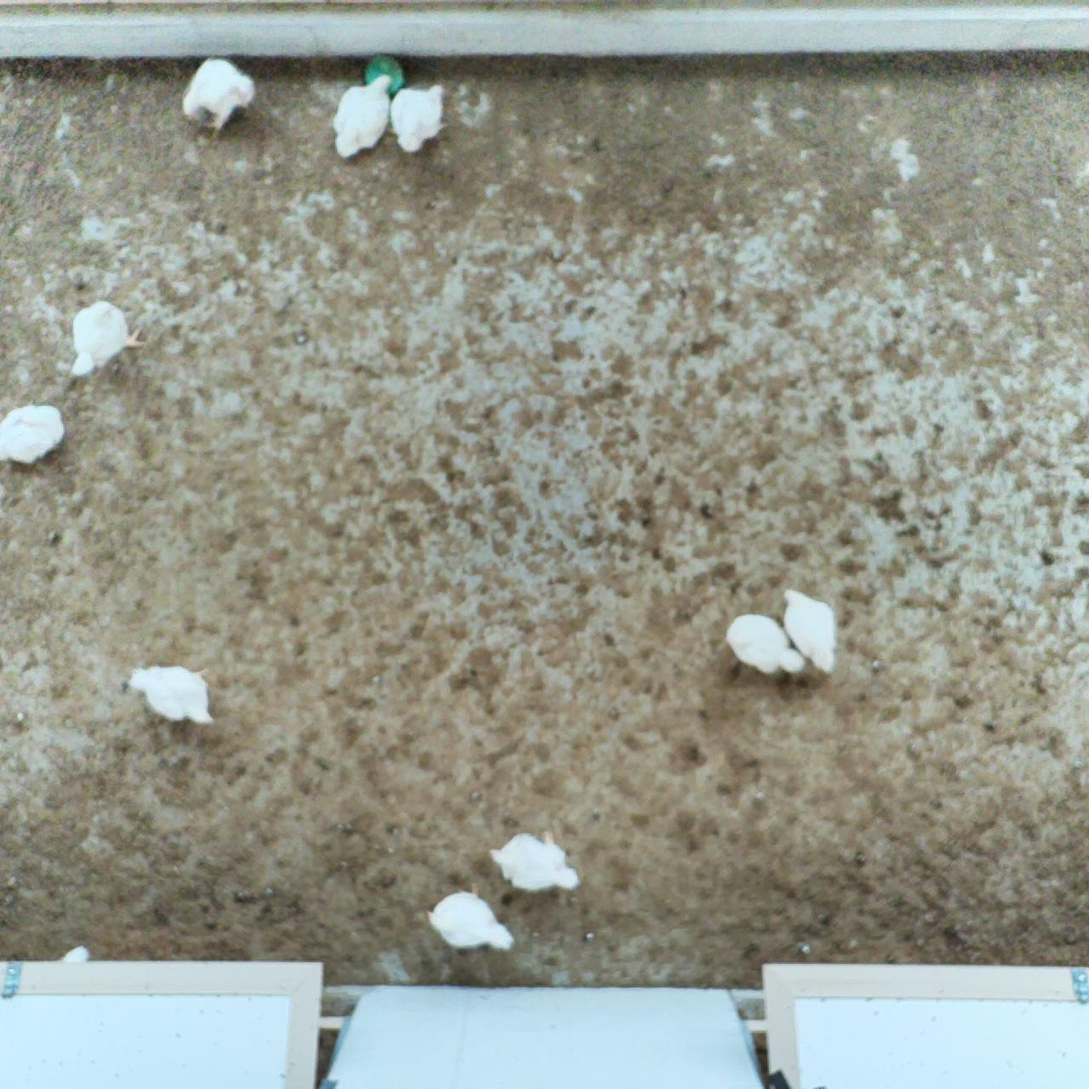chicken: (425, 880, 516, 955), (180, 53, 257, 137), (487, 829, 580, 897), (68, 297, 145, 379), (127, 661, 217, 728), (331, 74, 396, 160), (780, 583, 839, 676), (728, 611, 806, 677), (386, 81, 451, 154), (40, 942, 104, 1012), (0, 400, 66, 467)
